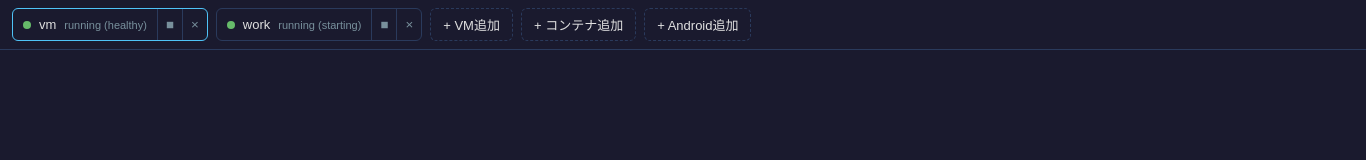
Test: VmTabs › cancels delete
Click the button named "workを削除": (409, 24) [396,9,421,40]
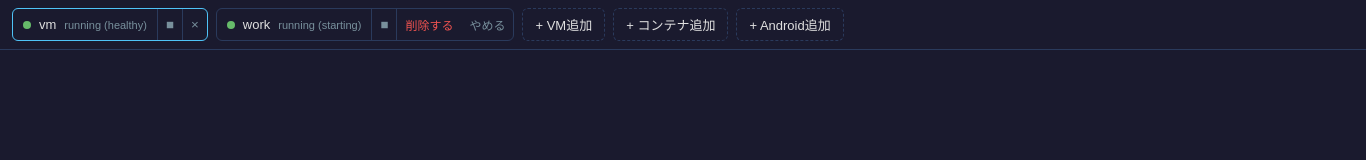
Click the button with aria-label "削除をやめる": (488, 24) [462,9,514,40]
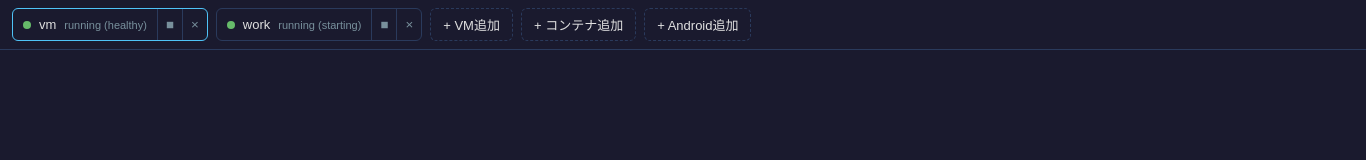
Now the button named "workを削除" is shown, box [396,9,421,40]
